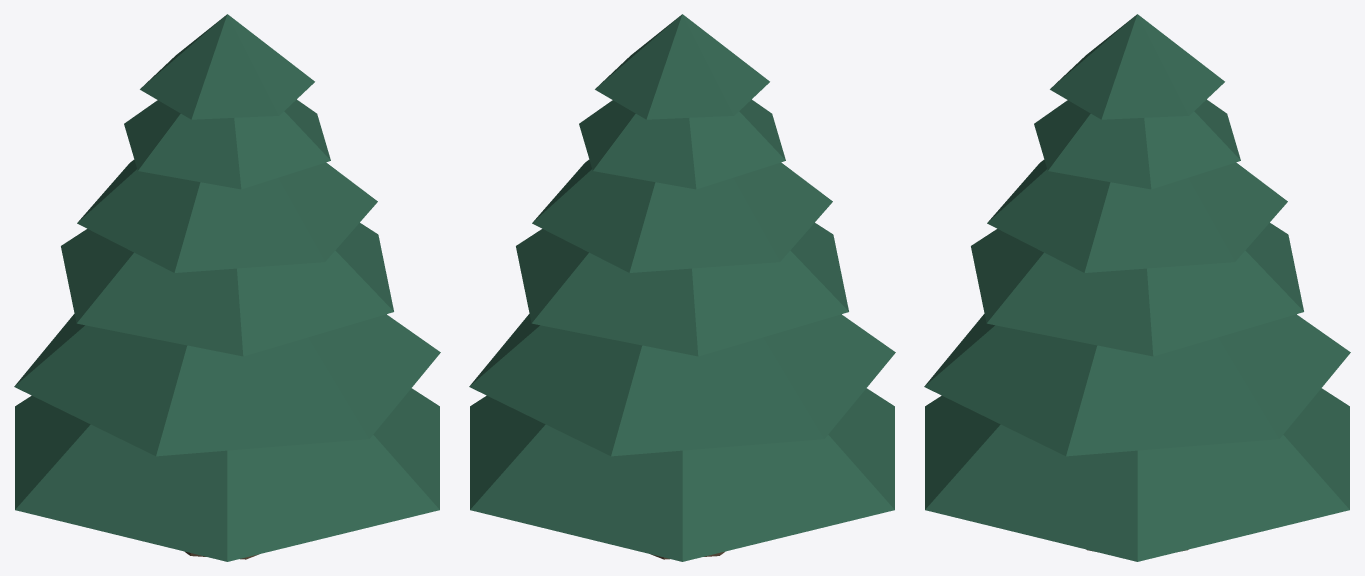
Rendered from boom.fbx.
3 renders of one model, left to right at view 1: azimuth 30°, elevation 25°; view 2: azimuth 150°, elevation 25°; view 3: azimuth 270°, elevation 25°, orthographic.
Parts seen in each view (by area): view 1: pCylinder11; view 2: pCylinder11; view 3: pCylinder11.
Boxes of the visible parts, left/top/right/bottom form: pCylinder11: left=14, top=14, right=440, bottom=561; pCylinder11: left=469, top=14, right=895, bottom=561; pCylinder11: left=924, top=14, right=1350, bottom=561.
Size of the model in its own units: 26.6 by 31.05 by 23.14.
